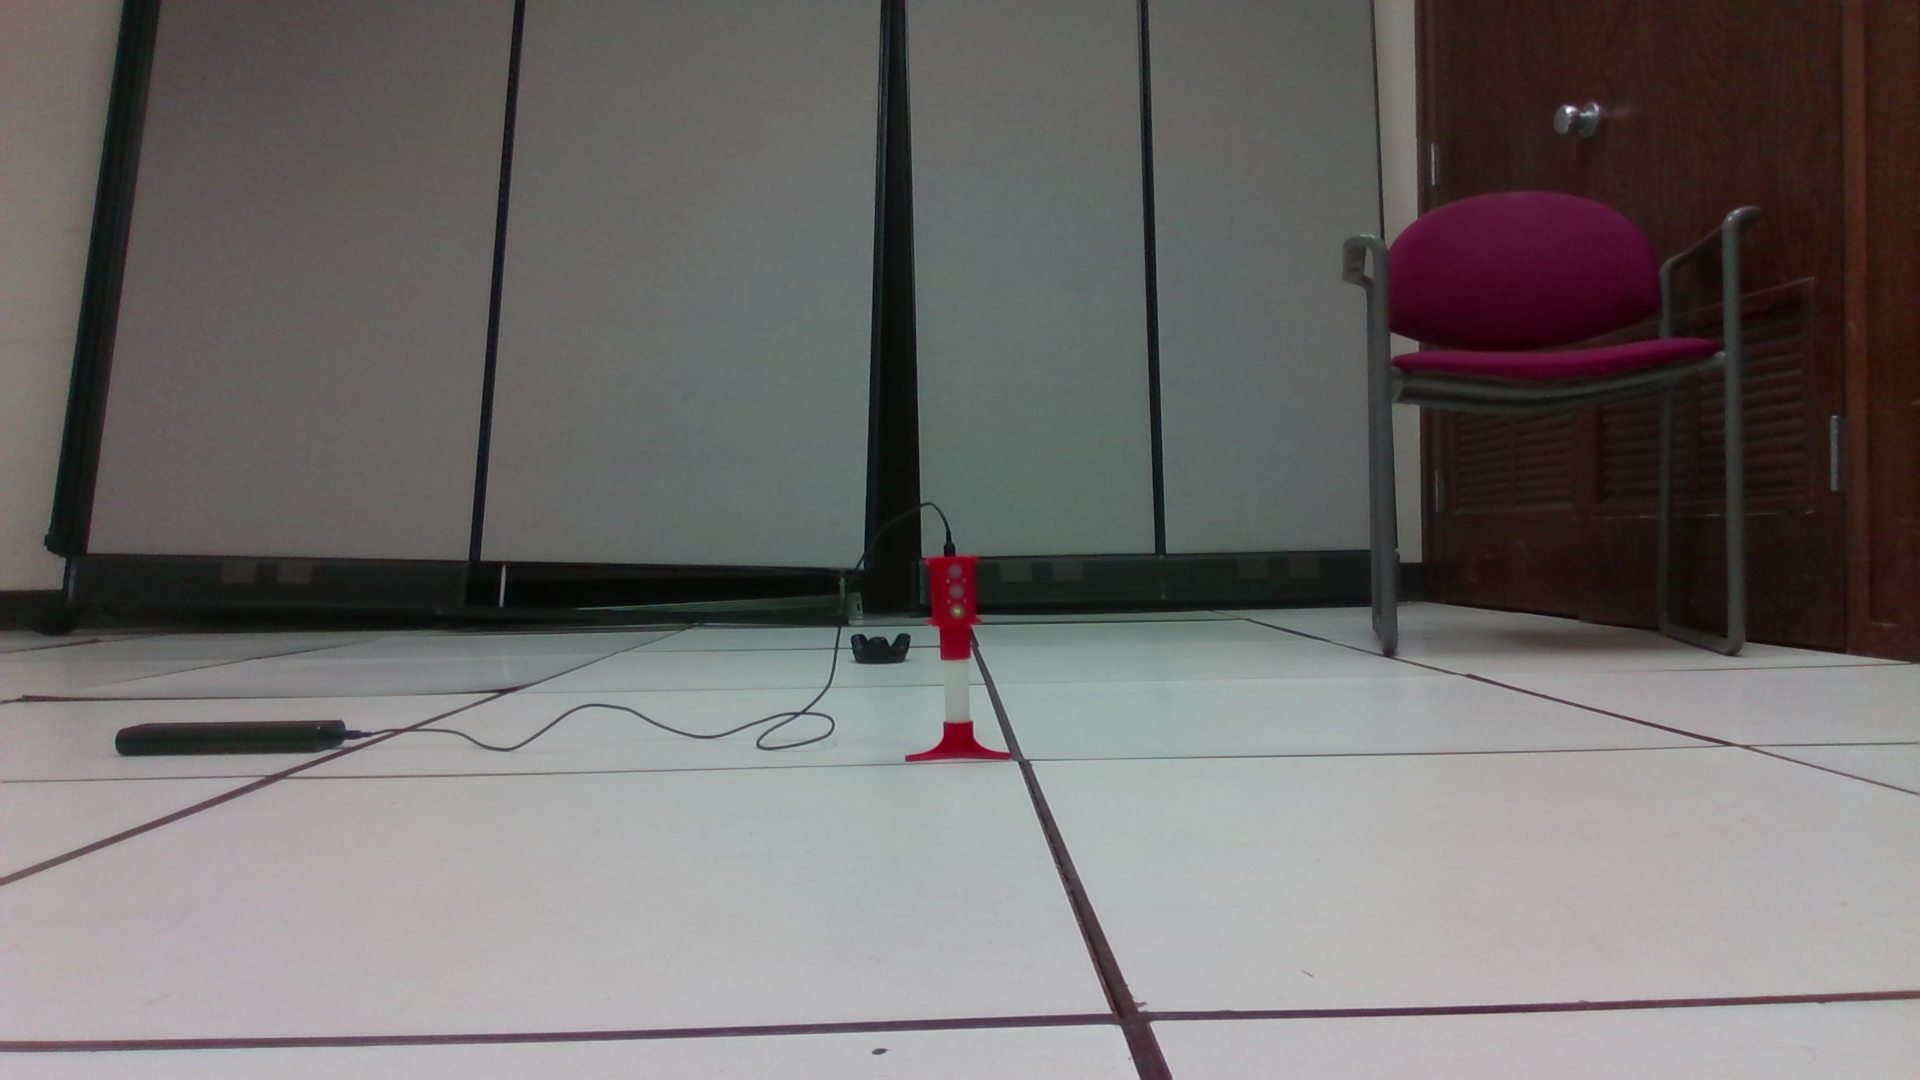stoplight: (924, 556, 980, 655)
